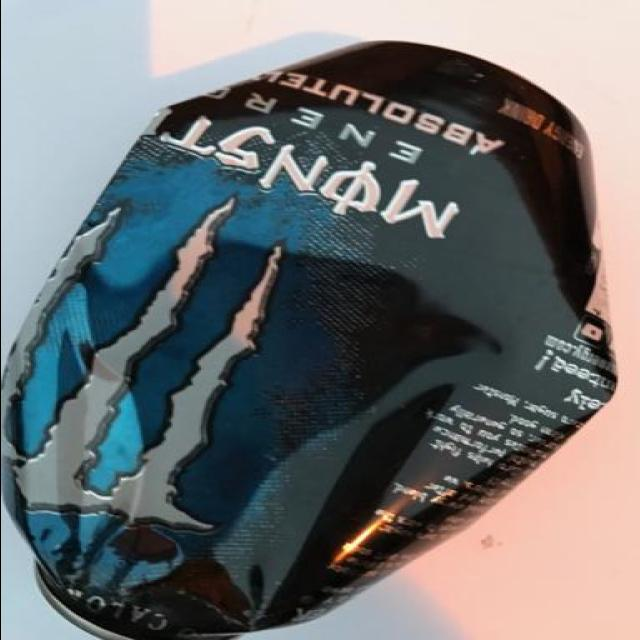Aluminum Can: (0, 17, 635, 638)
